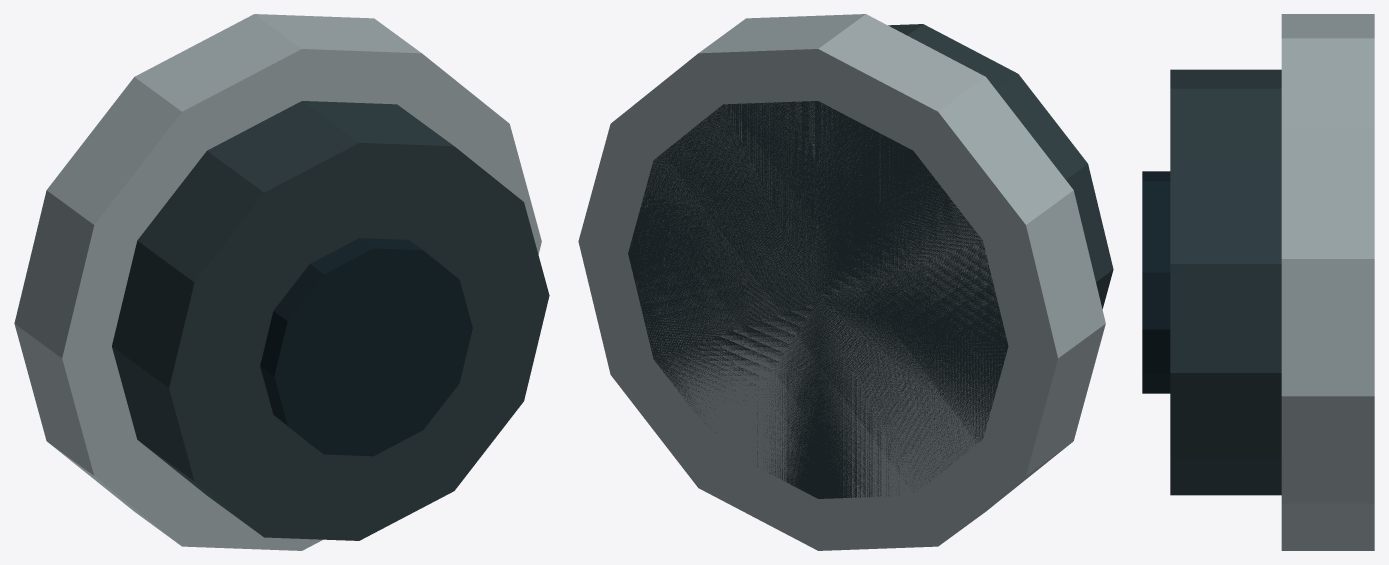
File: socket.obj
3 renders of one model, left to right at view 1: azimuth 30°, elevation 25°; view 2: azimuth 150°, elevation 25°; view 3: azimuth 270°, elevation 25°, orthographic. The views are drawn at different scales.
Bounding box in the file's own units: 0.058 × 0.058 × 0.025.
